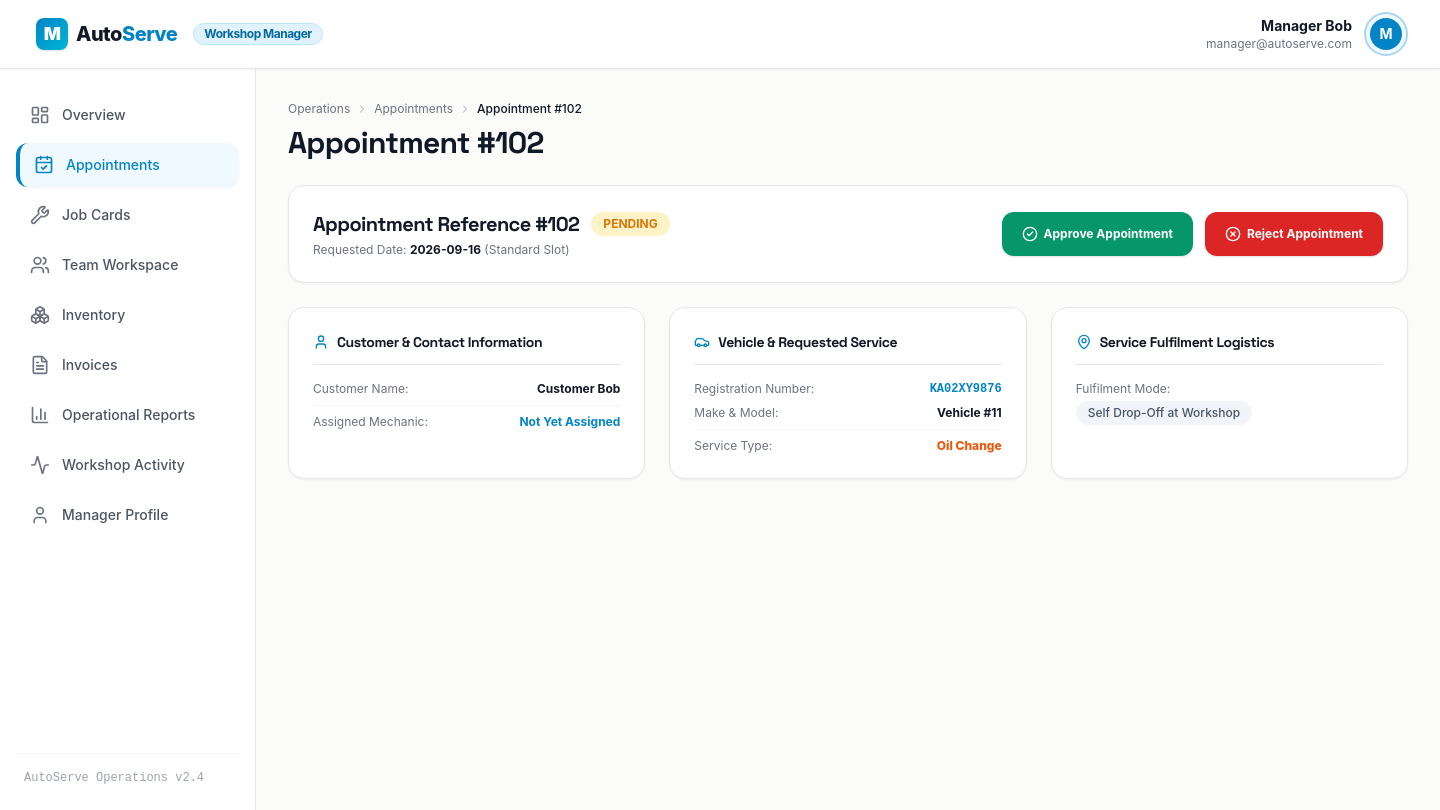
Scenario: Manager Appointments Workflow › displays error alert when approval returns 409 Conflict
Expected: the heading "Appointment Reference #102" is shown, [313, 210, 579, 238]
Click the button "Approve Appointment": (1097, 234) [1002, 212, 1193, 256]
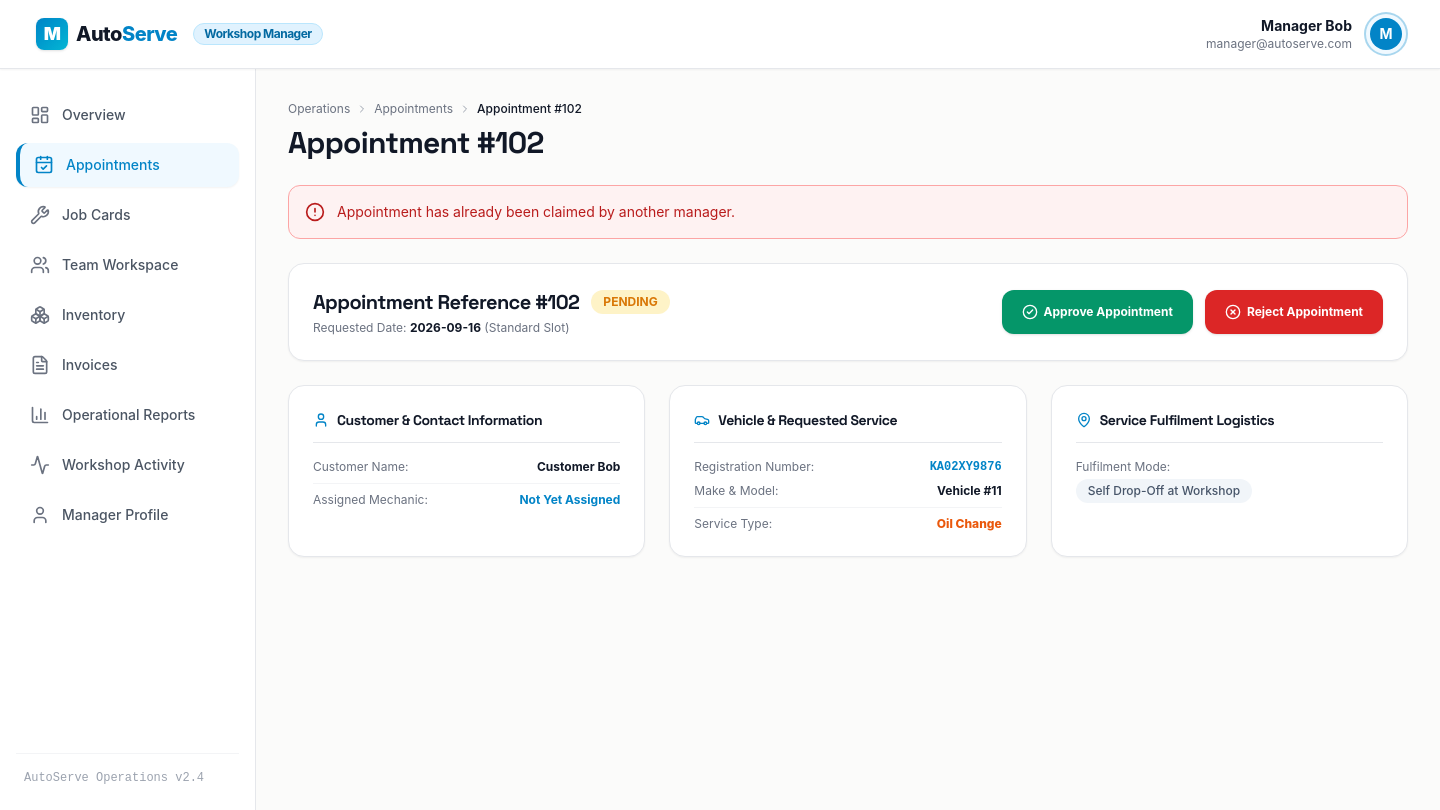
Expected: the message reads "Appointment has already been claimed by another manager.", [337, 203, 735, 220]
